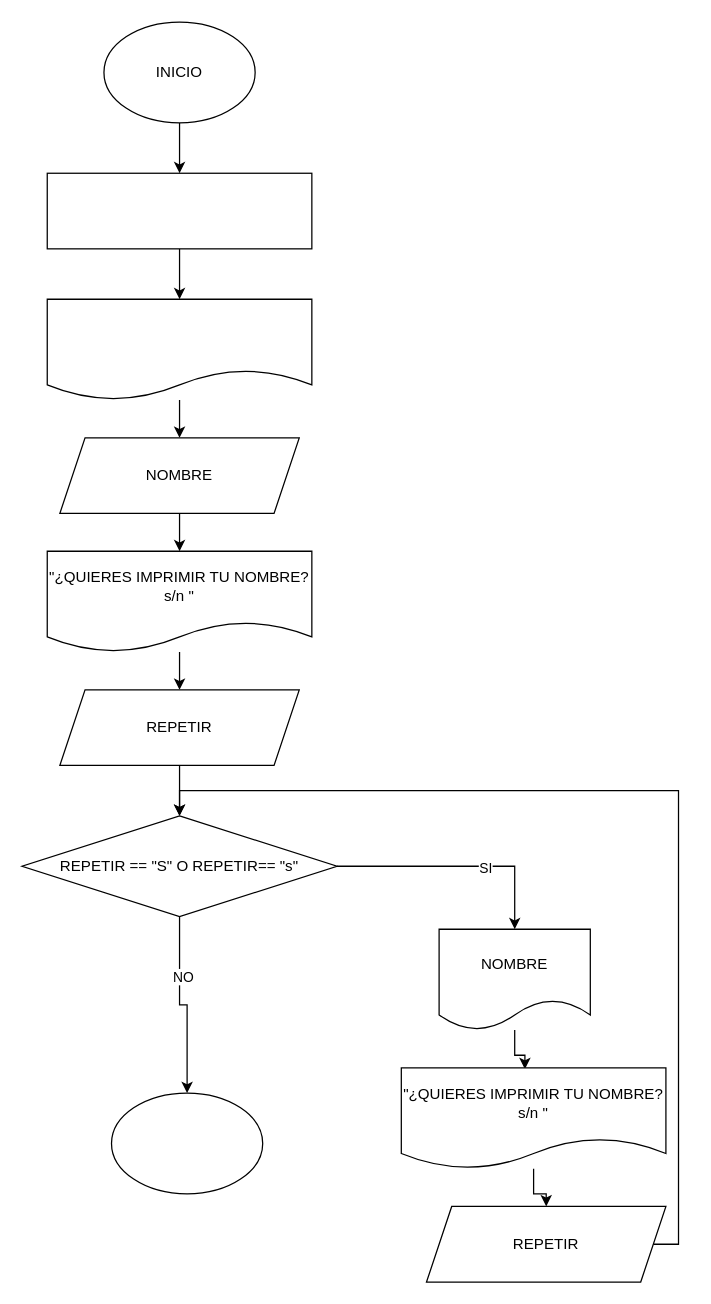
Image size: 711x1304. Some labels were removed from this diagram. Each missing label, with the centre of its shape:
"INGRESA TU NOMBRE": pixel 179 349
FIN: pixel 186 1143
NOMBRE(STR),REPETIR(CHAR): pixel 179 210
